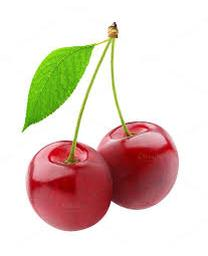cherry: (26, 140, 113, 231), (95, 122, 180, 211)
